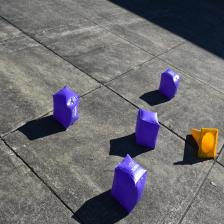cone: (190, 128, 218, 158)
cube: (110, 154, 147, 214), (53, 86, 79, 130), (135, 108, 160, 148), (158, 68, 181, 100)
